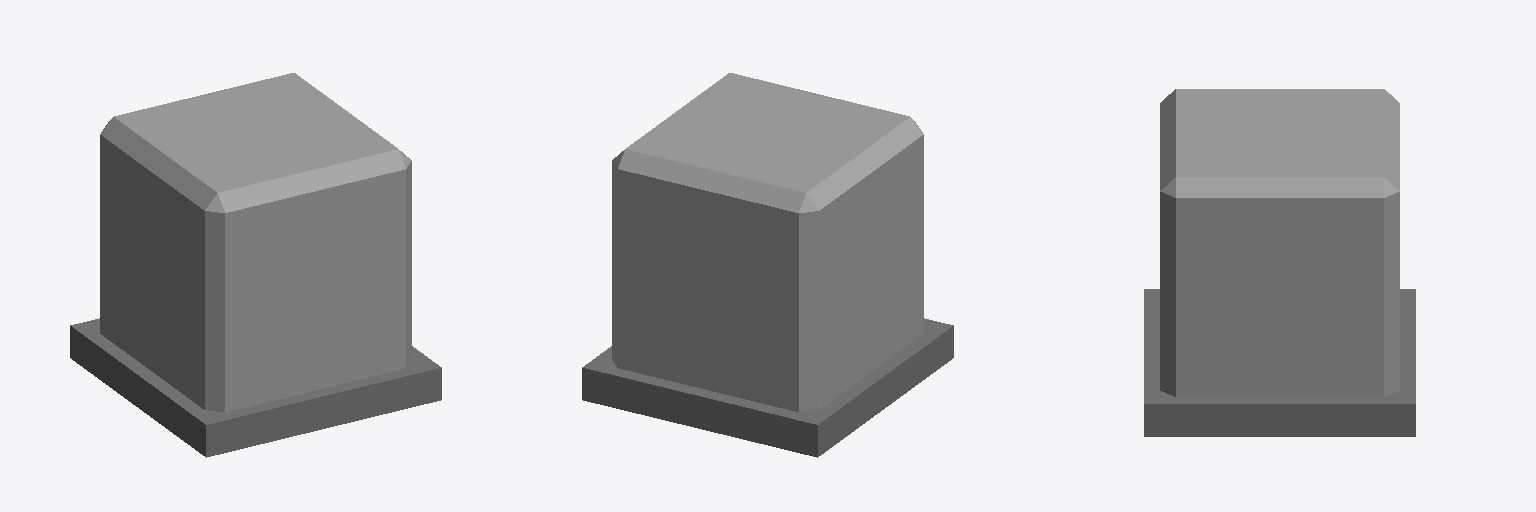
The model's file is statuebase1.obj.
3 renders of one model, left to right at view 1: azimuth 30°, elevation 25°; view 2: azimuth 150°, elevation 25°; view 3: azimuth 270°, elevation 25°, orthographic.
Parts seen in each view (by area): view 1: Object.2, Object.1; view 2: Object.2, Object.1; view 3: Object.2, Object.1.
Boxes of the visible parts, x1,y1,x2,y2 form: Object.2: [100, 73, 411, 411]; Object.1: [70, 318, 441, 457]; Object.2: [612, 73, 923, 411]; Object.1: [582, 318, 953, 457]; Object.2: [1160, 89, 1399, 396]; Object.1: [1144, 289, 1415, 436].
Bounding box in the file's own units: 1 × 1 × 1.